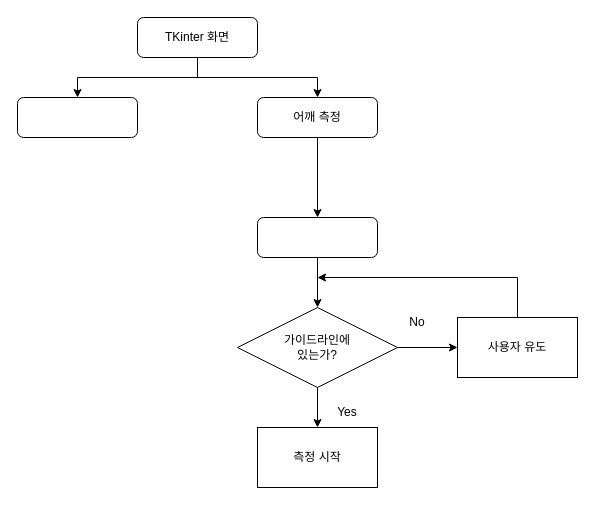
Image size: 595x505. Some labels were removed from this diagram. The centre of each missing label's shape, as x and y in pixels:
"얼굴 측정" goes at (x=77, y=117).
"카메라 ON" goes at (x=317, y=237).
